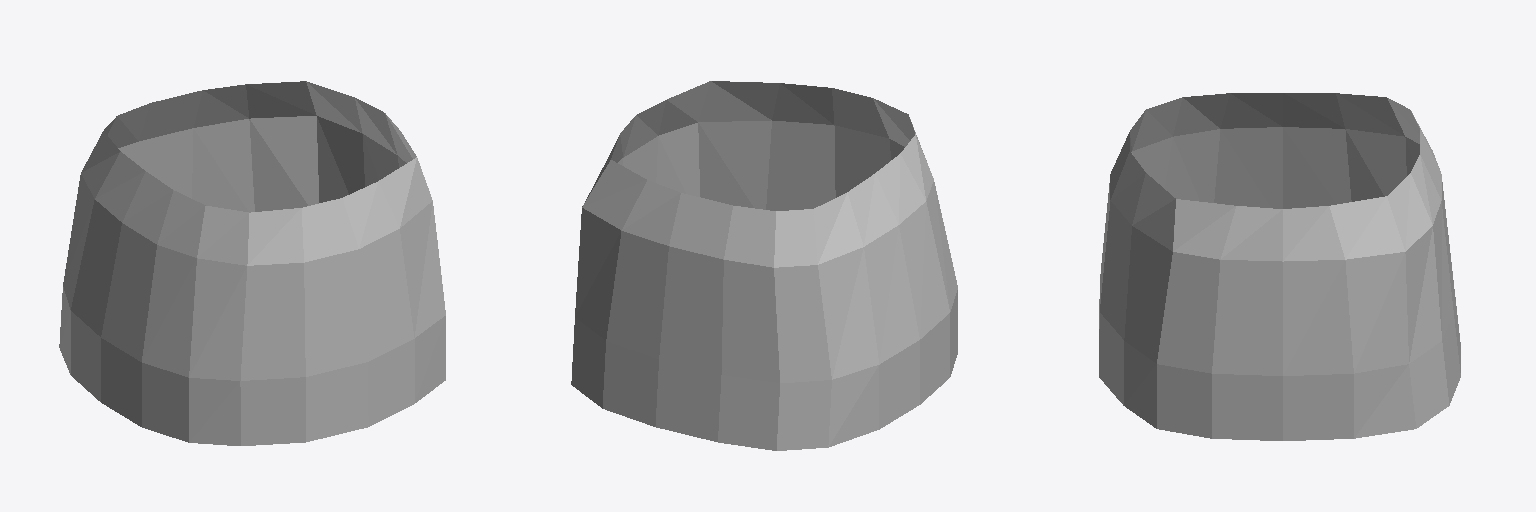
The model's file is rightArm2Cover.obj.
3 renders of one model, left to right at view 1: azimuth 30°, elevation 25°; view 2: azimuth 150°, elevation 25°; view 3: azimuth 270°, elevation 25°, orthographic.
Visible parts, largest first — view 1: unnamed_object1; view 2: unnamed_object1; view 3: unnamed_object1.
Part boxes in pixels (x1,y1,x2,y2): unnamed_object1: (59,81,445,445); unnamed_object1: (571,81,957,450); unnamed_object1: (1099,93,1460,440).
Size of the model in its own units: 9.71 by 6.68 by 9.92.